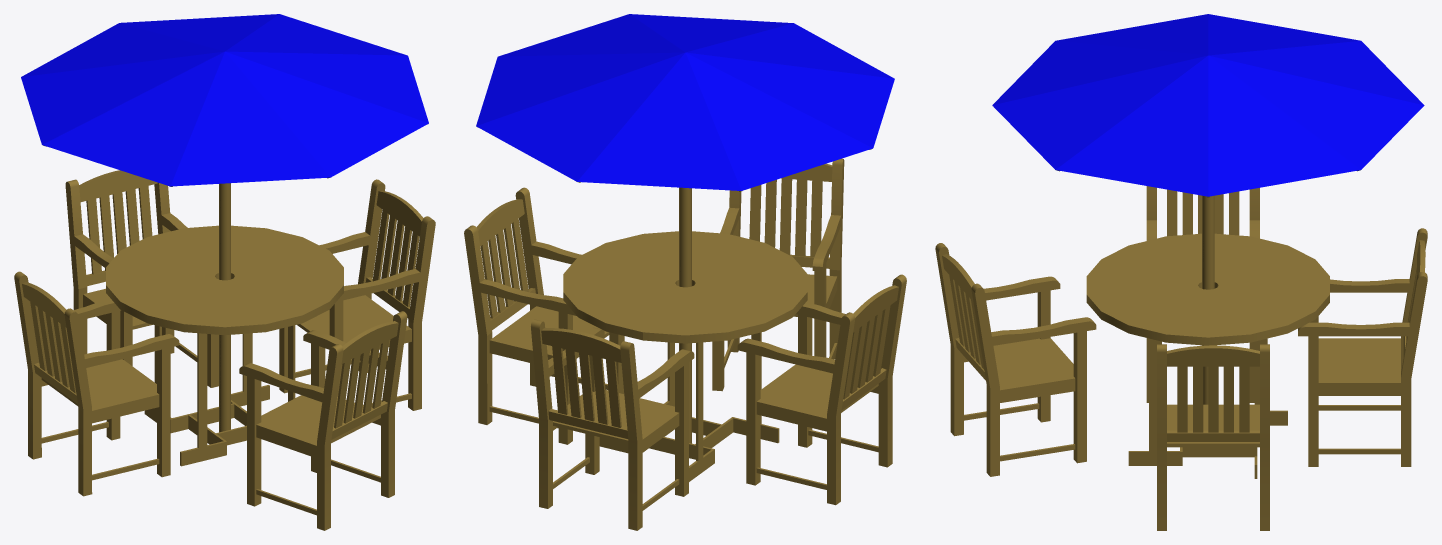
Rendered from BlueUmbrella.fbx.
3 views of the same model, side by side, from view 1: azimuth 30°, elevation 25°; view 2: azimuth 150°, elevation 25°; view 3: azimuth 270°, elevation 25° (orthographic). The views are drawn at different scales.
Parts seen in each view (by area): view 1: Model, Chair4, Side6, Side7, Chair3, Chair1, Chair2, Side1, Side5, Side8, Side4, Side2 (+5 smaller); view 2: Model, Chair2, Side5, Chair3, Side4, Chair1, Side2, Chair4, Side6, Side3, Side7, Side1 (+5 smaller); view 3: Model, Chair1, Side8, Side3, Chair4, Chair2, Side7, Side4, Chair3, Side1, Side2, Leg2 (+3 smaller).
Boxes of the visible parts, box(x1,y1,x2,y2) form: Model: box(21, 14, 428, 432); Chair4: box(256, 321, 398, 449); Side6: box(64, 308, 179, 496); Side7: box(239, 344, 343, 530); Chair3: box(22, 282, 159, 414); Chair1: box(297, 190, 423, 342); Chair2: box(79, 170, 157, 329); Side1: box(329, 216, 435, 410); Side5: box(14, 271, 120, 459); Side8: box(303, 311, 407, 497); Side4: box(65, 179, 132, 365); Side2: box(279, 179, 385, 393); Model: box(476, 14, 894, 443); Chair2: box(541, 328, 679, 443); Side5: box(737, 312, 855, 505); Chair3: box(756, 285, 898, 422); Side4: box(620, 341, 694, 530); Chair1: box(476, 199, 609, 358); Side2: box(464, 225, 576, 444); Chair4: box(749, 163, 837, 316); Side6: box(796, 274, 906, 467); Side3: box(531, 319, 604, 508); Side7: box(812, 158, 844, 359); Side1: box(515, 187, 624, 393); Model: box(992, 14, 1424, 404); Chair1: box(1167, 345, 1259, 447); Side8: box(971, 283, 1096, 476); Side3: box(1298, 272, 1427, 466); Chair4: box(942, 254, 1075, 393); Chair2: box(1318, 240, 1425, 386); Side7: box(935, 243, 1060, 436); Side4: box(1310, 228, 1427, 410); Chair3: box(1167, 189, 1239, 236); Side1: box(1157, 344, 1166, 530); Side2: box(1260, 344, 1269, 530); Leg2: box(1128, 338, 1182, 465).
Size of the model in its own units: 2.16 by 2.12 by 2.43.
